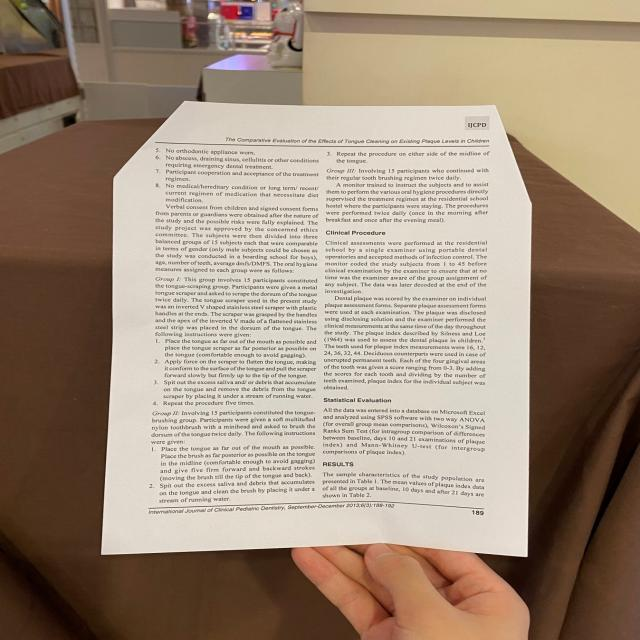document: (102, 102, 531, 555)
